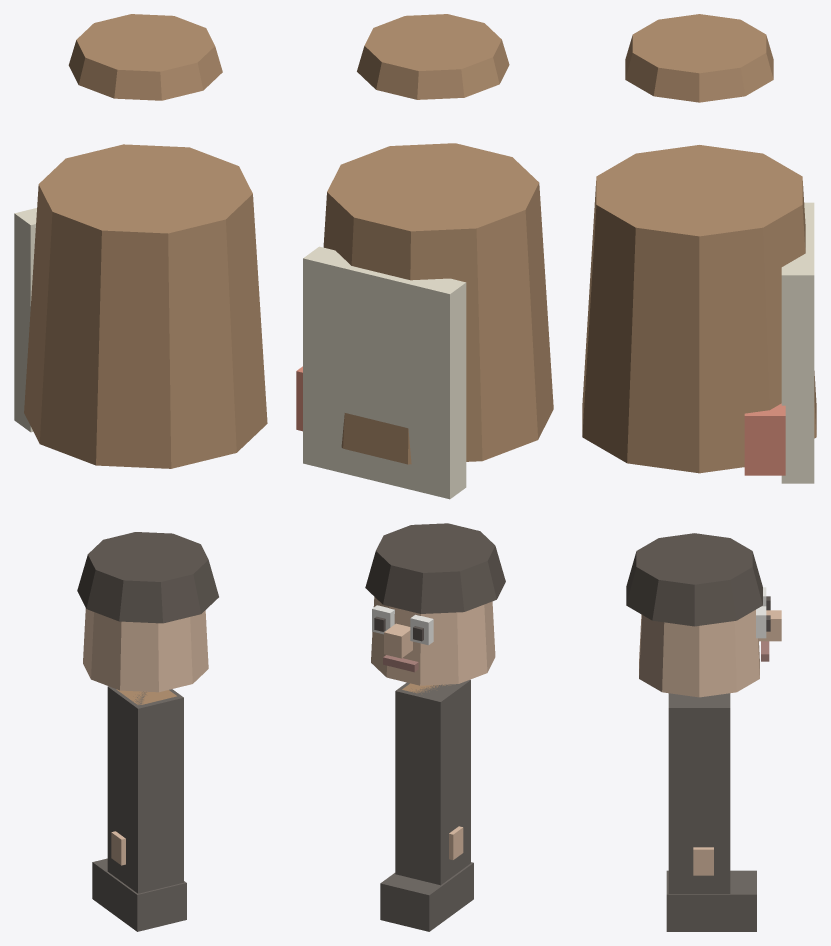
File: npc_oswin.glb
3 views of the same model, side by side, from view 1: azimuth 30°, elevation 25°; view 2: azimuth 150°, elevation 25°; view 3: azimuth 270°, elevation 25° (orthographic).
Parts seen in each view (by area): view 1: Torso, LimbLegL, HatCap, Hair, Head, BootL, Apron, LimbArmL; view 2: Torso, Apron, LimbLegL, HatCap, Hair, Head, BootL, Nose; view 3: Torso, LimbLegL, HatCap, Hair, Head, Apron, BootL, PropPouch, ThumbL.
Part boxes in pixels (box(x1,y1,x2,y2)): Torso: box(24, 144, 267, 468); LimbLegL: box(107, 686, 183, 893); HatCap: box(68, 14, 222, 100); Hair: box(77, 532, 218, 623); Head: box(83, 608, 208, 692); BootL: box(92, 858, 186, 931); Apron: box(14, 208, 36, 432); LimbArmL: box(116, 689, 176, 704); Torso: box(323, 143, 553, 464); Apron: box(303, 246, 466, 499); LimbLegL: box(395, 679, 470, 885); HatCap: box(357, 14, 509, 99); Hair: box(365, 523, 505, 613); Head: box(371, 597, 495, 685); BootL: box(380, 862, 473, 931); Nose: box(384, 623, 412, 658); Torso: box(582, 145, 816, 473); LimbLegL: box(668, 693, 730, 893); HatCap: box(625, 14, 773, 102); Hair: box(626, 533, 762, 626); Head: box(639, 610, 759, 697); Apron: box(781, 202, 814, 483); BootL: box(666, 870, 756, 931); PropPouch: box(744, 403, 785, 475); ThumbL: box(693, 847, 713, 875).
Size of the model in its own units: 0.6 by 2.36 by 0.5706.
